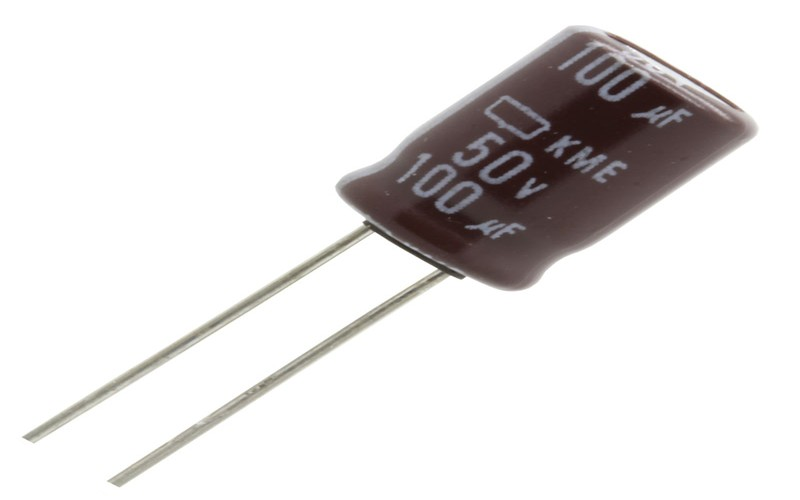Capacitor: (14, 16, 766, 500)
